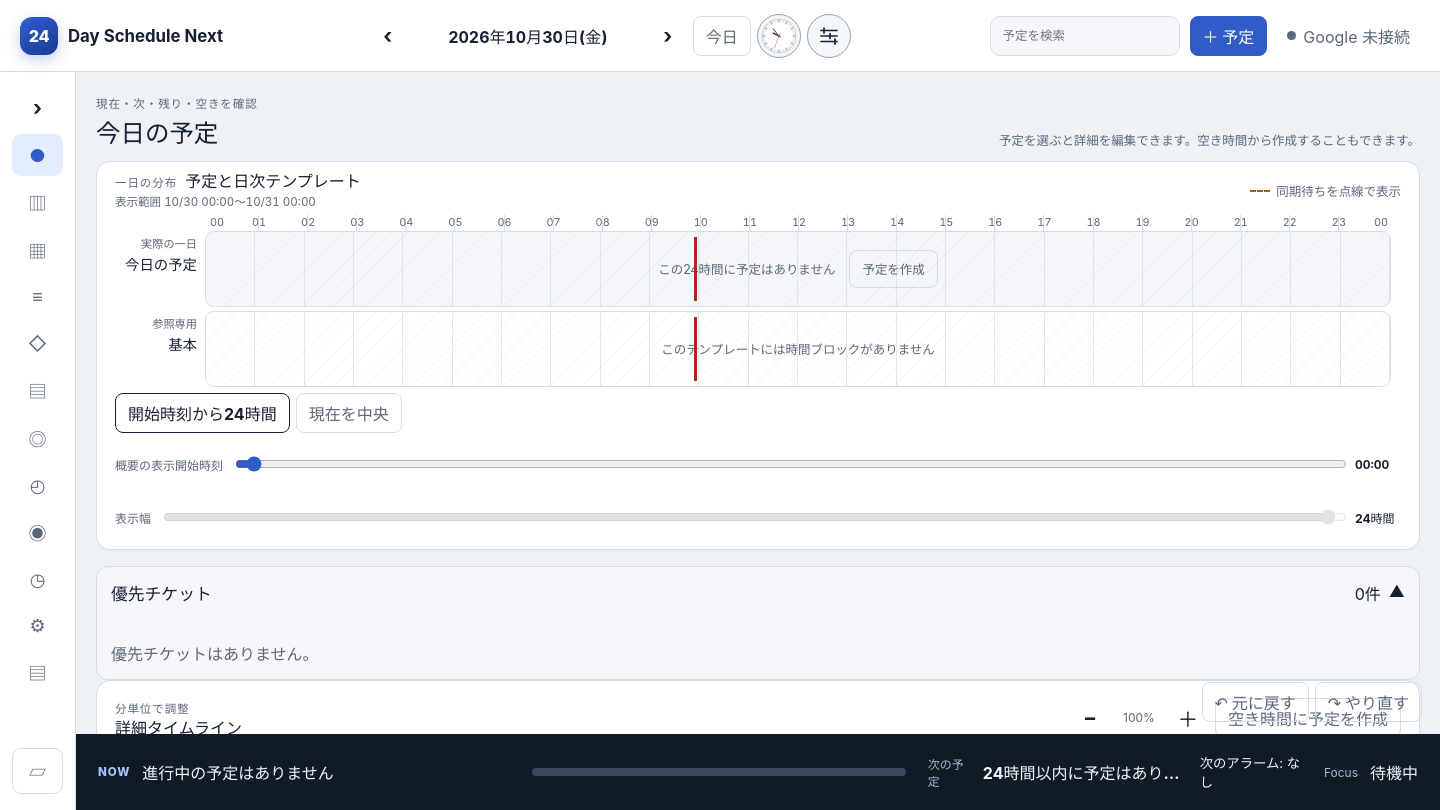
Test: App time-tool navigation › keeps template editing in the sidebar destination instead of Today
Expected: the heading "詳細タイムライン" is shown, [115, 719, 242, 734]
Expected: the button "テンプレートを編集" is not shown
Click the button named "テンプレート" at point(38, 343), box [12, 322, 63, 364]
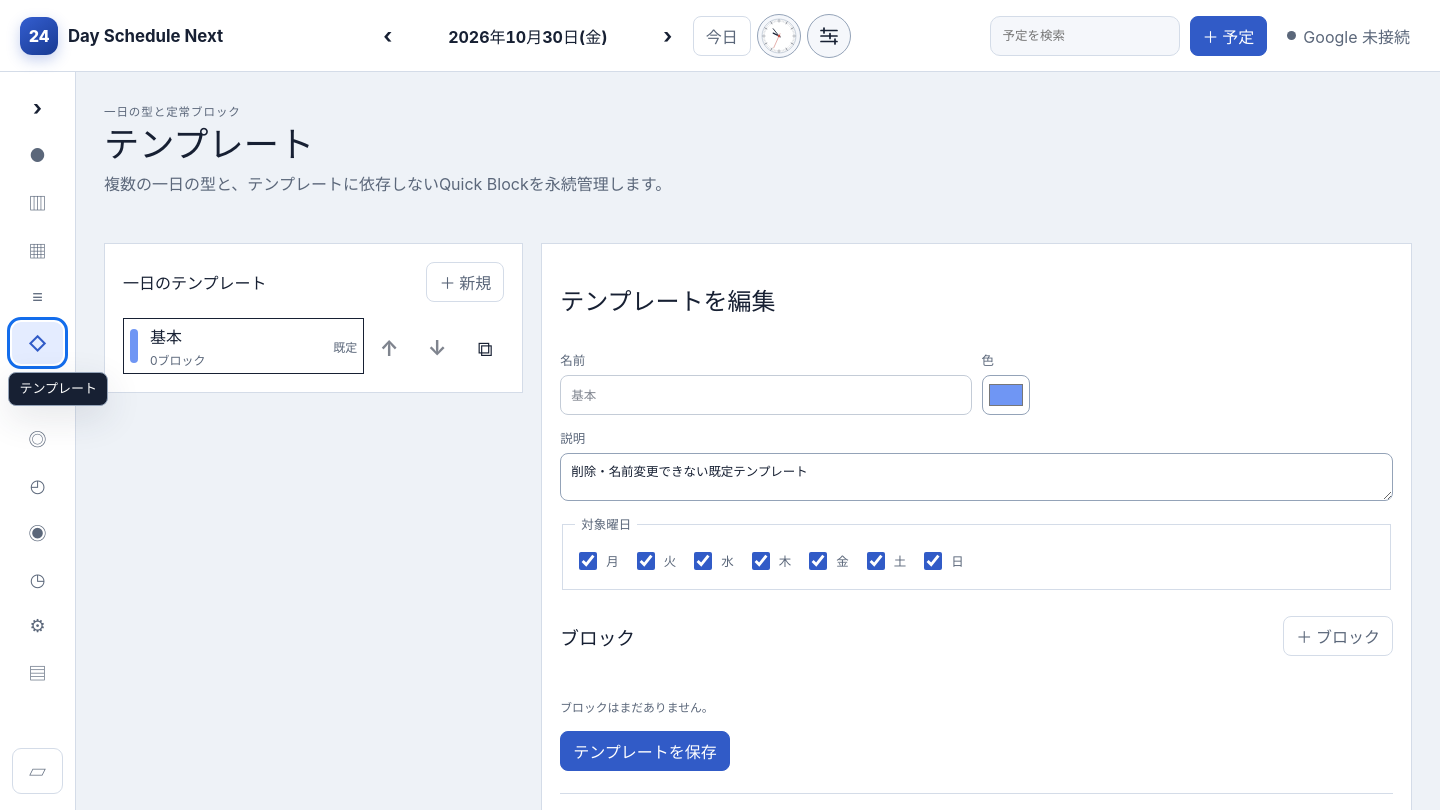
Result: the heading "テンプレートを編集" is shown at [560, 287, 776, 316]
